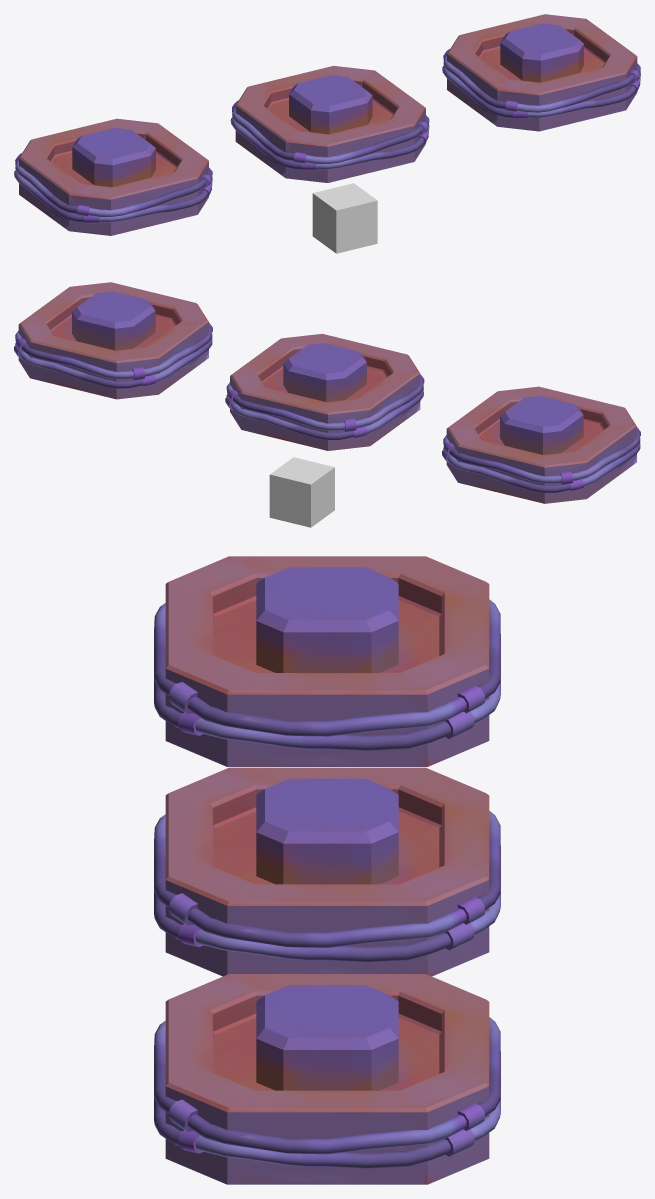
Rendered from tradeplateform.fbx.
The picture shows the model from 3 angles, top to bottom: view 1: azimuth 30°, elevation 25°; view 2: azimuth 150°, elevation 25°; view 3: azimuth 270°, elevation 25°; orthographic projection. The views are drawn at different scales.
Visible parts, largest first — view 1: Plane.029, Plane.027, Plane.028, tradeplateform; view 2: Plane.028, Plane.029, Plane.027, tradeplateform; view 3: Plane.028, Plane.029, Plane.027.
Boxes of the visible parts, bbox=[...] form: Plane.029: bbox=[442, 14, 640, 131]; Plane.027: bbox=[230, 65, 429, 182]; Plane.028: bbox=[14, 118, 212, 235]; tradeplateform: bbox=[312, 183, 377, 253]; Plane.028: bbox=[442, 386, 640, 503]; Plane.029: bbox=[14, 282, 212, 399]; Plane.027: bbox=[225, 333, 424, 450]; tradeplateform: bbox=[269, 457, 334, 527]; Plane.028: bbox=[154, 556, 500, 766]; Plane.029: bbox=[154, 974, 500, 1184]; Plane.027: bbox=[154, 767, 500, 976].
Size of the model in its own units: 1094 by 284 by 284.
